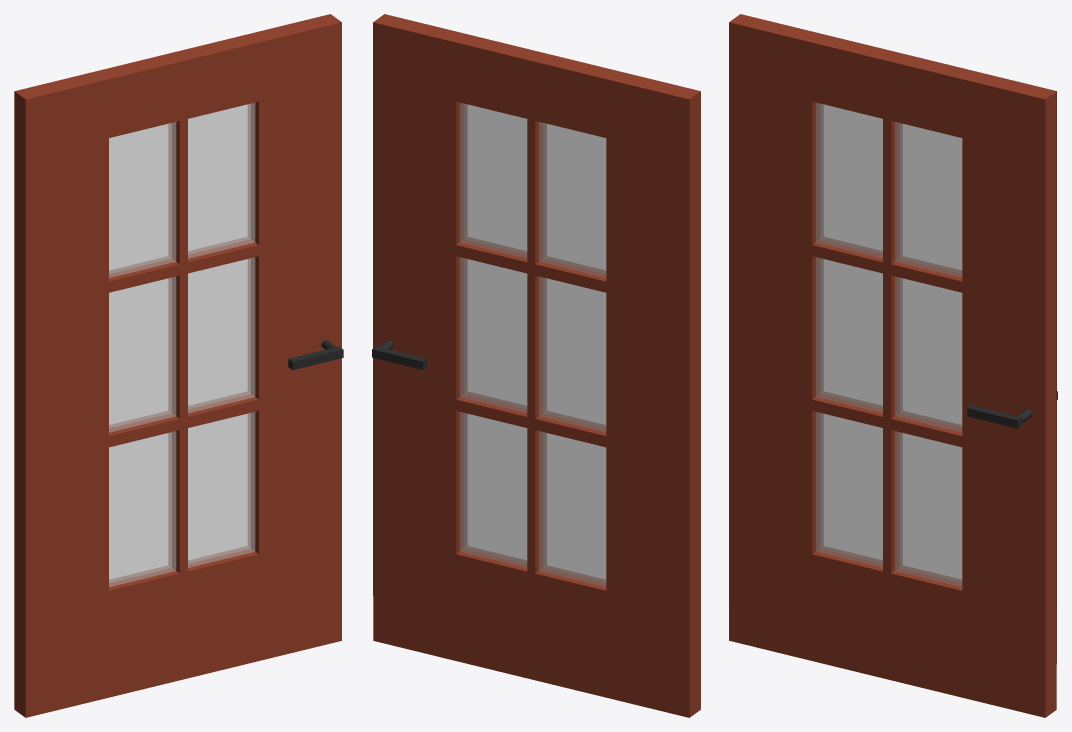
File: T_r_Glas.fbx
3 views of the same model, side by side, from view 1: azimuth 30°, elevation 25°; view 2: azimuth 150°, elevation 25°; view 3: azimuth 330°, elevation 25° (orthographic).
Parts seen in each view (by area): view 1: TürGlas, Türklinke 1.001; view 2: TürGlas, Türklinke 2.001; view 3: TürGlas, Türklinke 1.001.
Boxes of the visible parts, left/top/right/bottom form: TürGlas: left=14, top=14, right=341, bottom=717; Türklinke 1.001: left=288, top=340, right=343, bottom=369; TürGlas: left=373, top=14, right=700, bottom=717; Türklinke 2.001: left=372, top=340, right=427, bottom=369; TürGlas: left=729, top=14, right=1056, bottom=717; Türklinke 1.001: left=967, top=405, right=1032, bottom=428.
Bounding box in the file's own units: 119 × 223 × 25.98.
